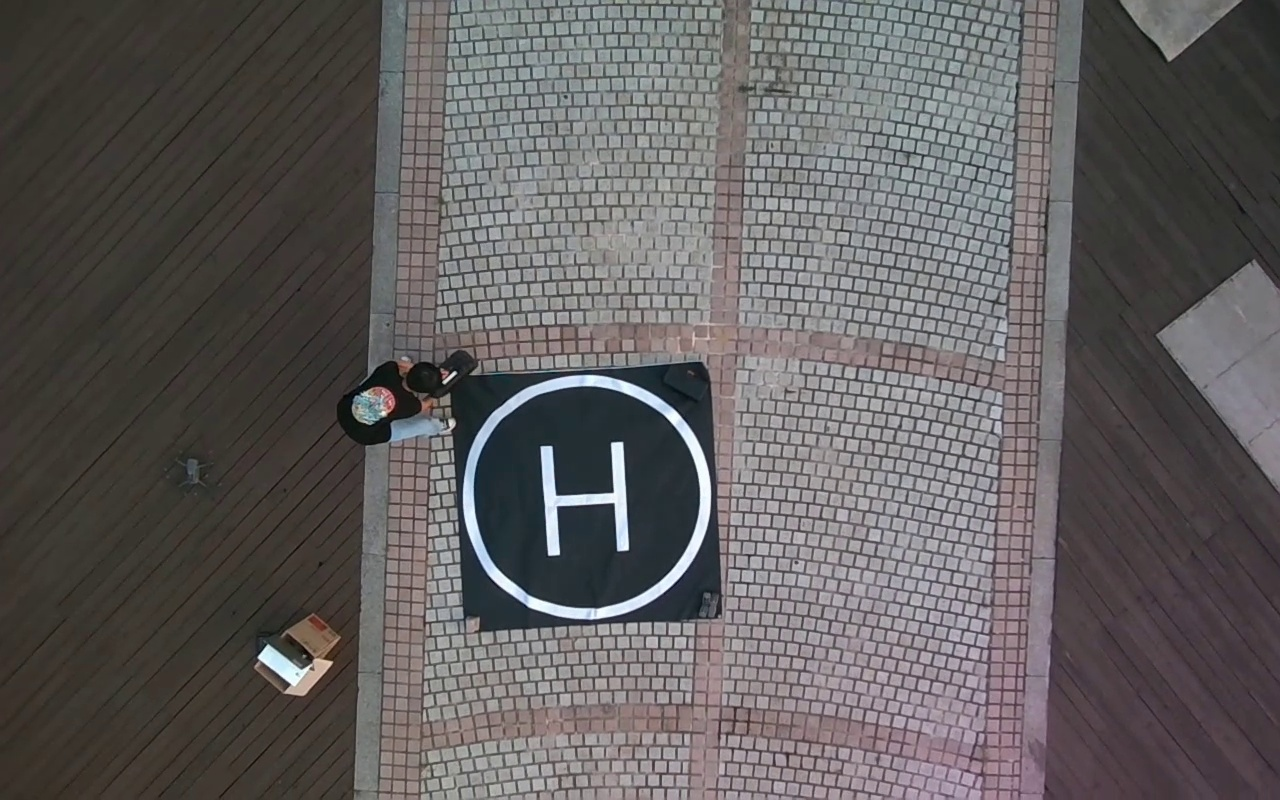H: (538, 440, 629, 555)
heliport: (466, 373, 715, 620)
